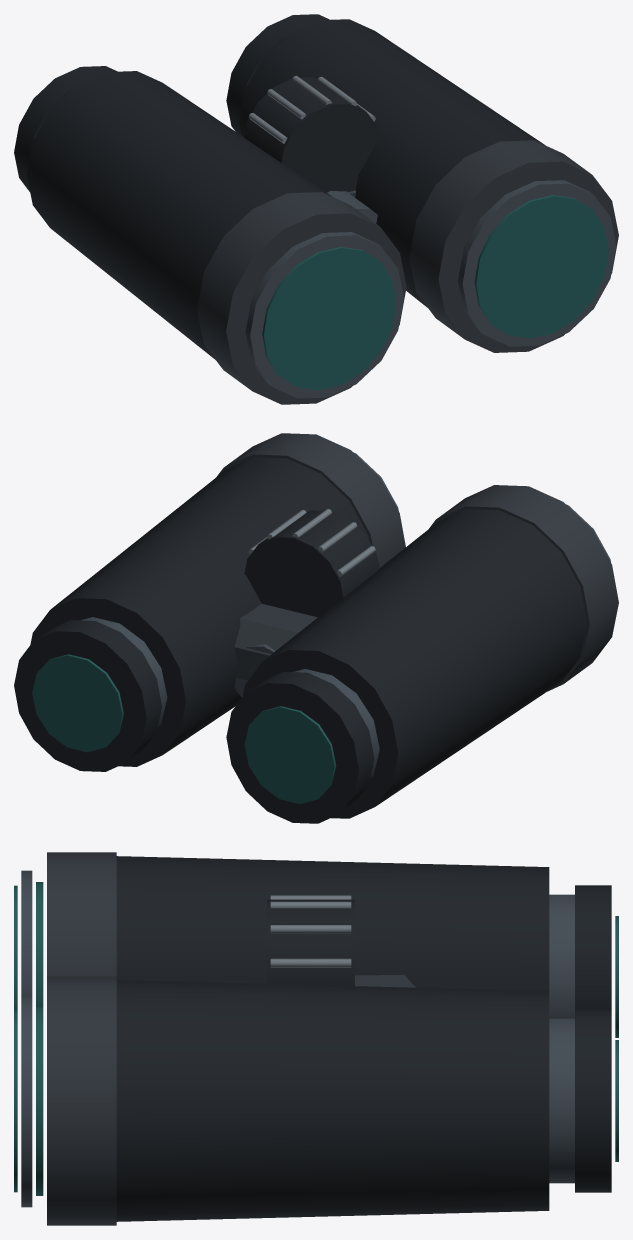
Rendered from compact-binoculars.glb.
The picture shows the model from 3 angles, top to bottom: view 1: azimuth 30°, elevation 25°; view 2: azimuth 150°, elevation 25°; view 3: azimuth 270°, elevation 25°; orthographic projection. The views are drawn at different scales.
Visible parts, largest first — view 1: compact-binoculars; view 2: compact-binoculars; view 3: compact-binoculars.
Boxes of the visible parts, box(x1,y1,x2,y2) form: compact-binoculars: box(14, 14, 618, 404); compact-binoculars: box(14, 433, 618, 823); compact-binoculars: box(14, 852, 618, 1225).
Bounding box in the file's own units: 0.148 × 0.075 × 0.165.
